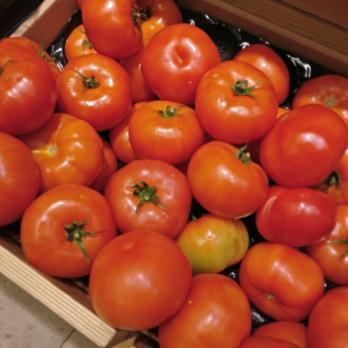Tomato: (0, 31, 264, 265), (99, 122, 348, 348), (69, 4, 155, 70)
